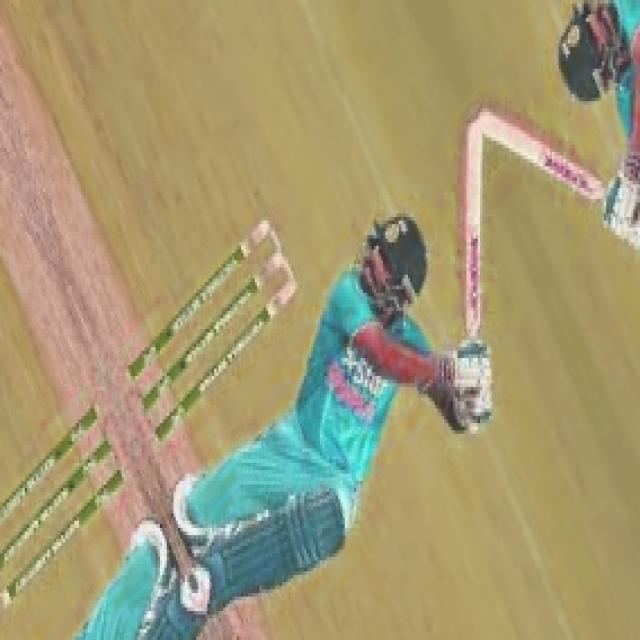toe: (457, 116, 486, 170)
